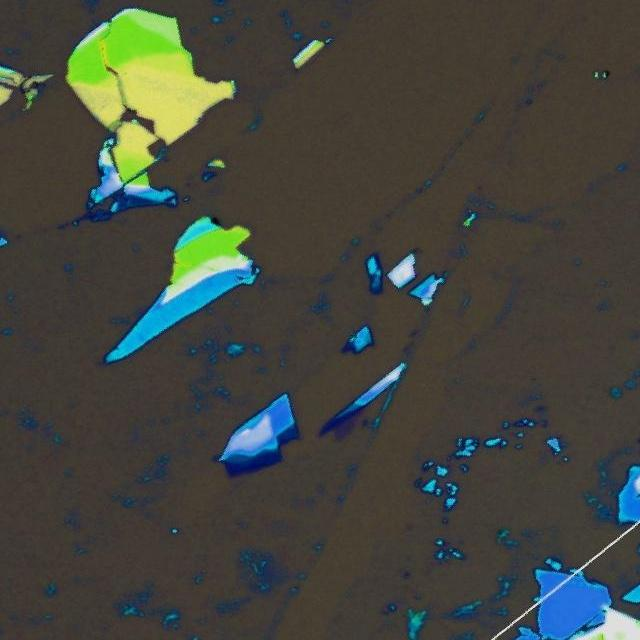monolayer-eWW4: (334, 406, 362, 444)
